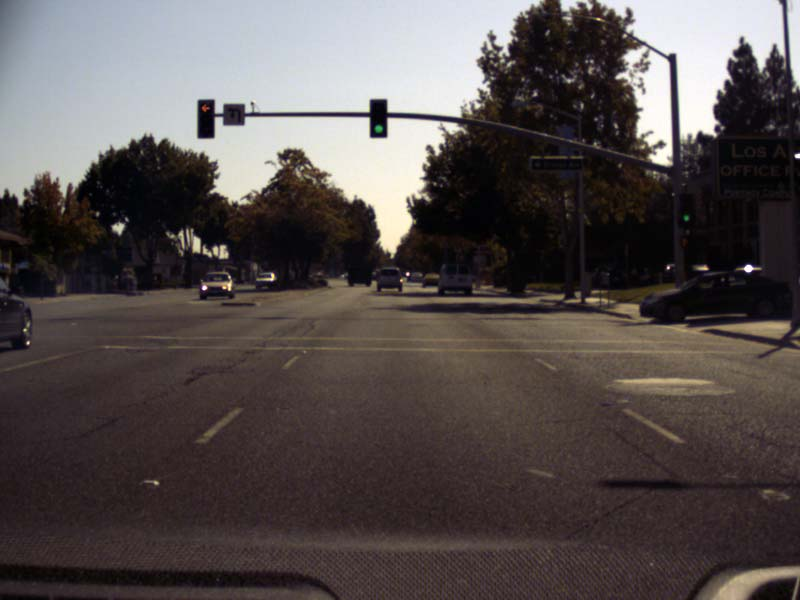Green: (369, 99, 387, 137), (679, 193, 695, 227)
Red: (197, 99, 213, 137)
